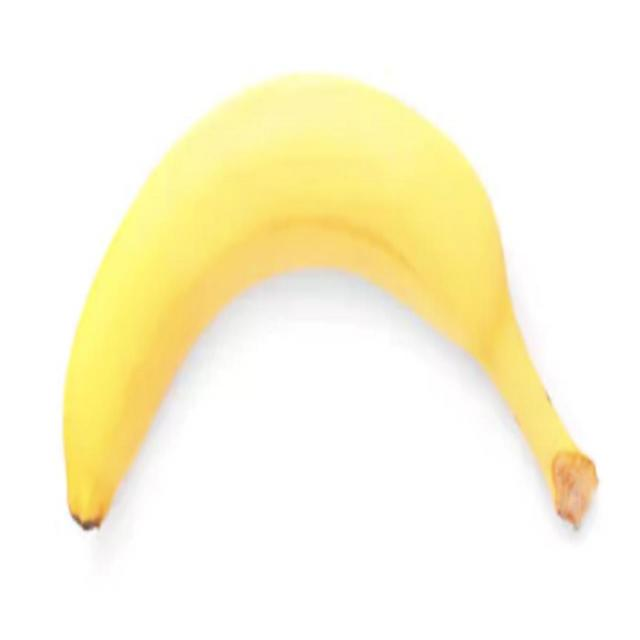banana: (0, 82, 638, 575)
